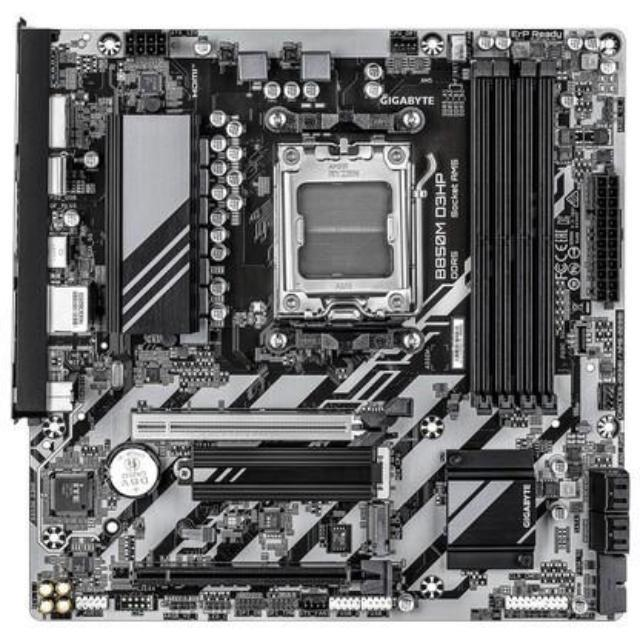Mainboard: (6, 15, 631, 630)
